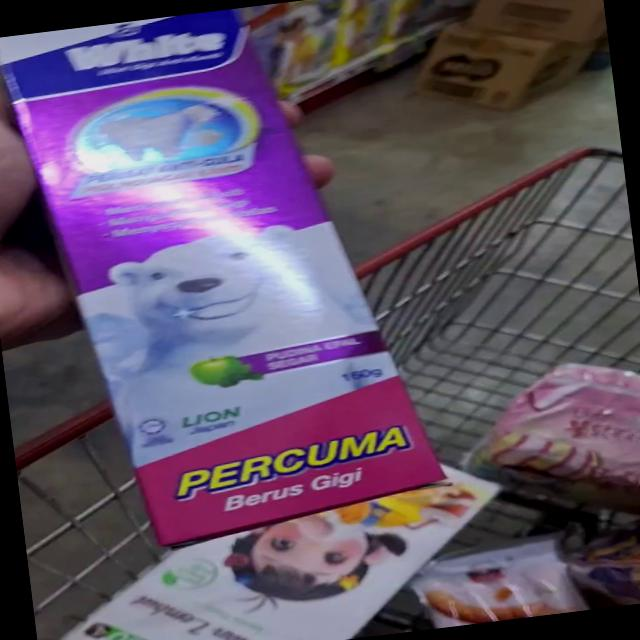Tisu: (44, 541, 363, 640), (300, 481, 561, 574)
Ubat Gigi: (18, 201, 450, 531), (0, 5, 348, 329)
